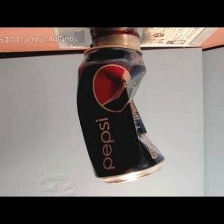can: (68, 44, 169, 187)
